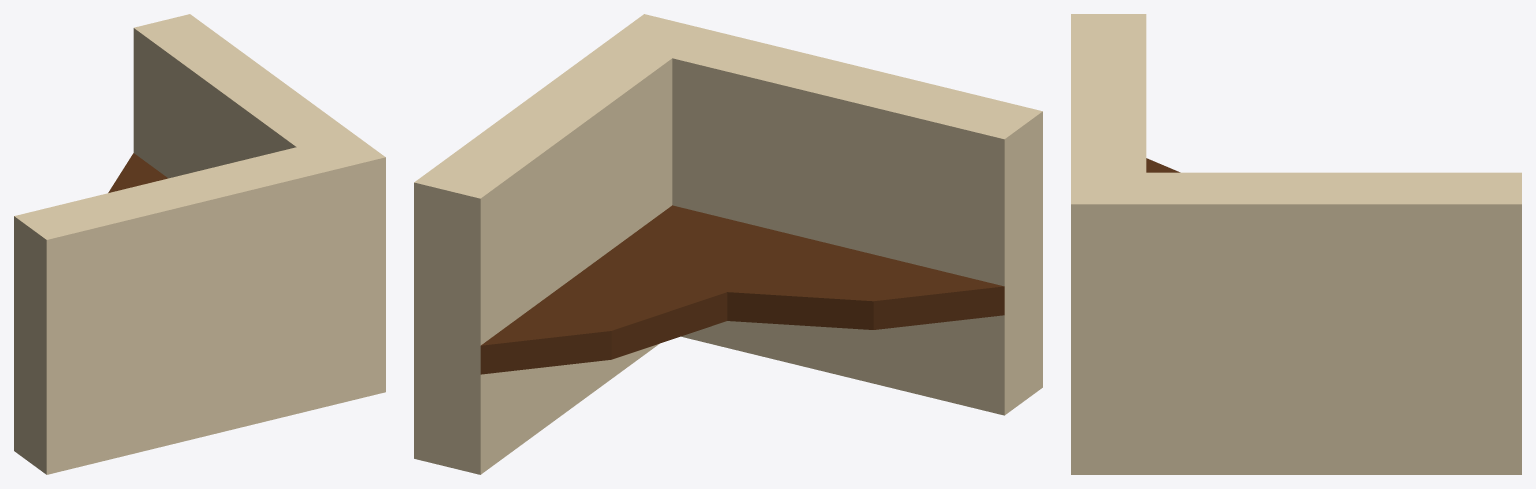
File: Two-ToneDesk.fbx
3 renders of one model, left to right at view 1: azimuth 30°, elevation 25°; view 2: azimuth 150°, elevation 25°; view 3: azimuth 270°, elevation 25°, orthographic. The views are drawn at different scales.
Parts seen in each view (by area): view 1: Desk; view 2: Desk; view 3: Desk.
Part boxes in pixels (x1,y1,x2,y2): Desk: [14, 14, 385, 474]; Desk: [414, 14, 1042, 474]; Desk: [1071, 14, 1521, 474].
Size of the model in its own units: 443 by 293 by 443.
